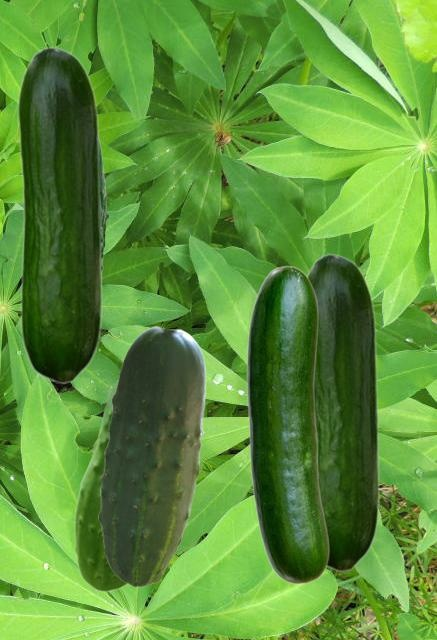cucumber: (17, 46, 102, 383), (98, 326, 205, 586), (246, 265, 328, 583), (305, 253, 379, 571), (74, 379, 127, 591), (100, 140, 108, 342)
